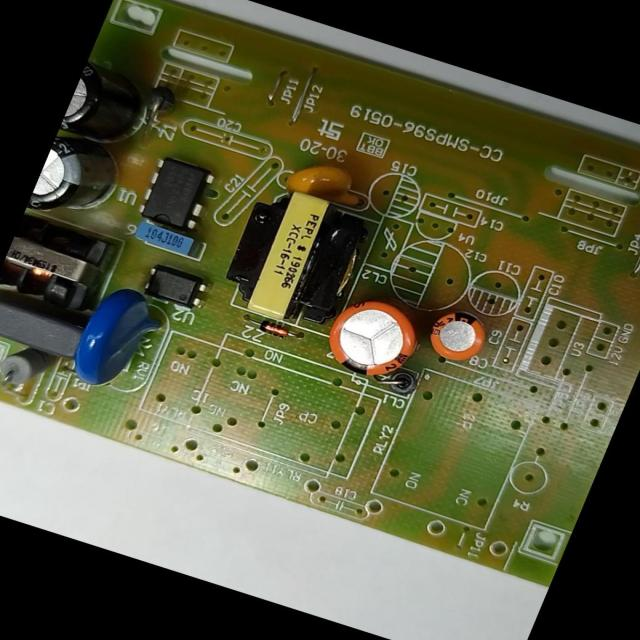Cap1: (312, 289, 431, 392)
Cap2: (419, 302, 494, 370)
Cap3: (26, 136, 128, 232)
Cap4: (58, 56, 157, 154)
MOSFET: (131, 152, 219, 235)
Mov: (60, 277, 174, 400)
Resistor: (0, 340, 58, 399)
Transformer: (209, 179, 373, 339), (0, 212, 121, 320)
